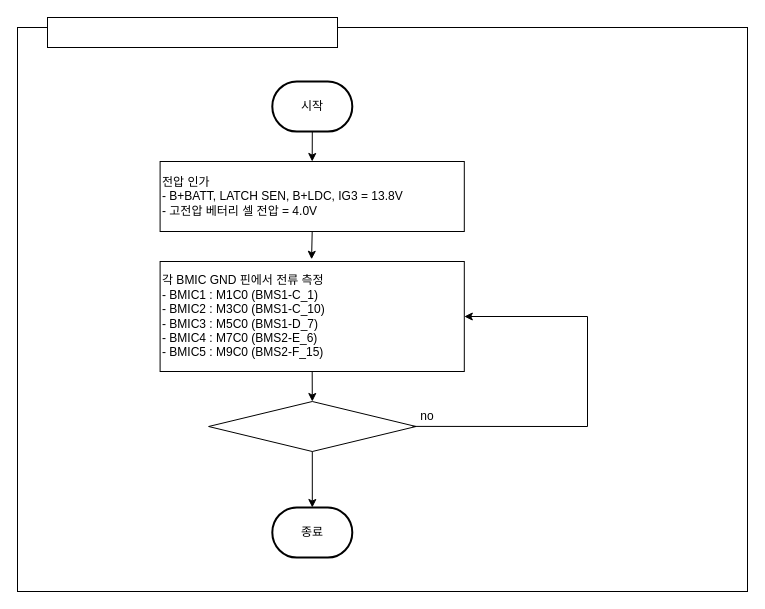
Some shapes in this 765 by 609 pixel diagram are drawn without their labels. The centre of each missing label's shape, as x and y in pixels:
"고전압 센싱IC 소모전류" belongs at pixel 192 32.
"전류 <= 10mA" belongs at pixel 312 426.
